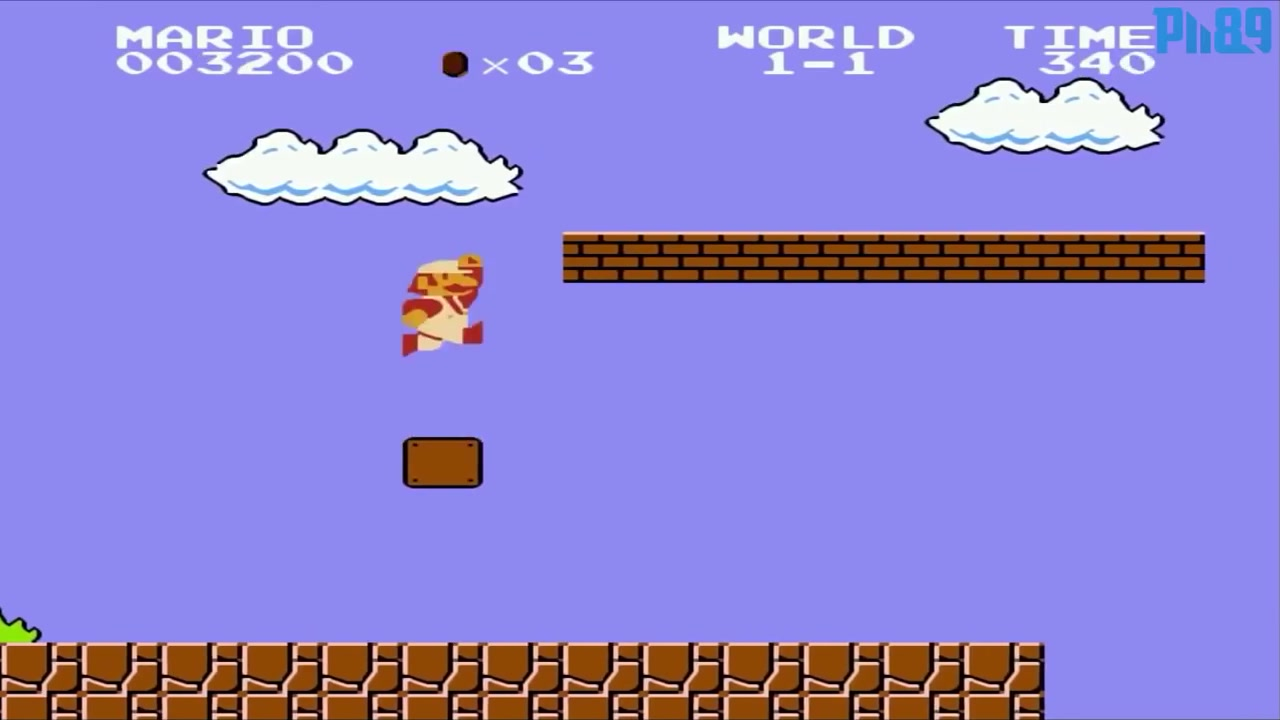mario: (393, 246, 503, 374)
